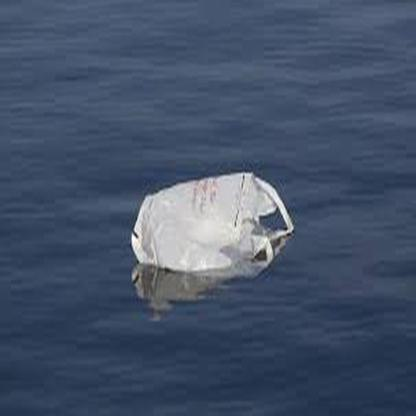plastic bag: (130, 172, 294, 278)
